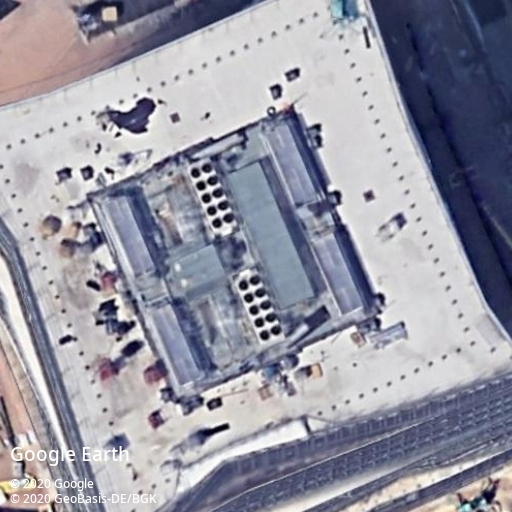Chiller: (186, 157, 238, 236), (235, 267, 285, 346)
